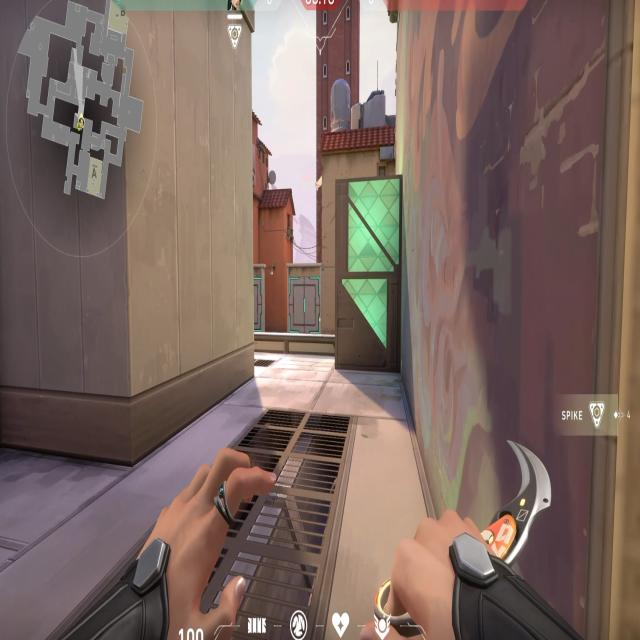Mid_Wall: (289, 269, 322, 340)
